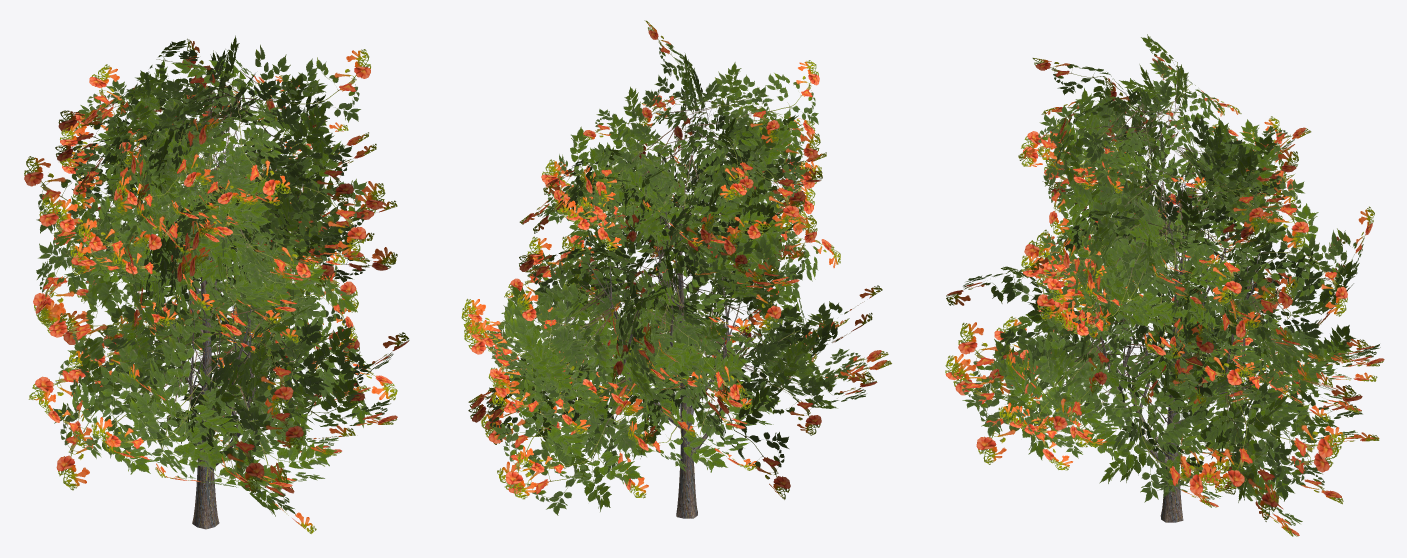
Rendered from ChineseTrumpetVine_3.fbx.
3 renders of one model, left to right at view 1: azimuth 30°, elevation 25°; view 2: azimuth 150°, elevation 25°; view 3: azimuth 270°, elevation 25°, orthographic. The views are drawn at different scales.
Visible parts, largest first — view 1: ChineseTrumpetVine_3; view 2: ChineseTrumpetVine_3; view 3: ChineseTrumpetVine_3.
Boxes of the visible parts, <box> form: ChineseTrumpetVine_3: <box>24,35,409,533</box>; ChineseTrumpetVine_3: <box>461,20,891,518</box>; ChineseTrumpetVine_3: <box>945,34,1384,536</box>.
Size of the model in its own units: 177 by 229 by 198.
